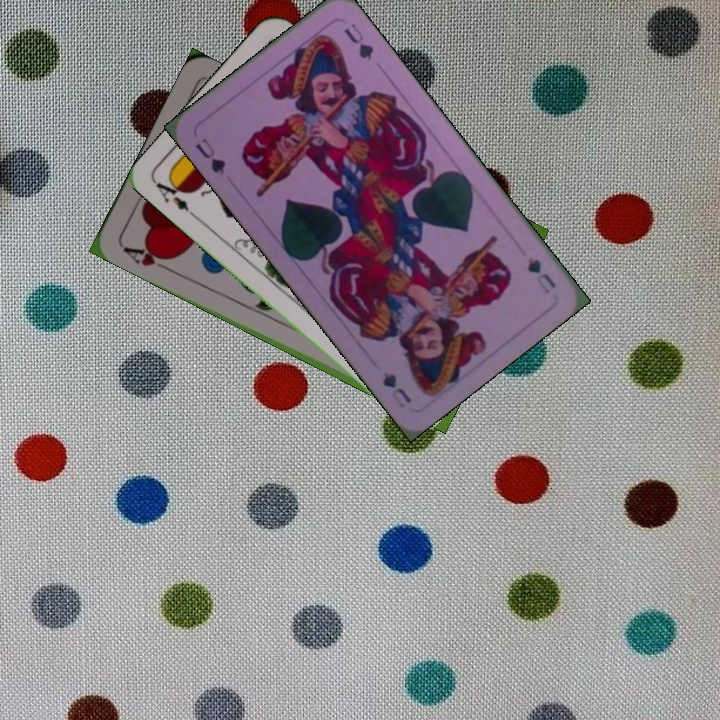EA: (151, 172, 200, 221)
GU: (191, 134, 229, 177), (523, 254, 559, 297)
HA: (118, 241, 177, 274)
